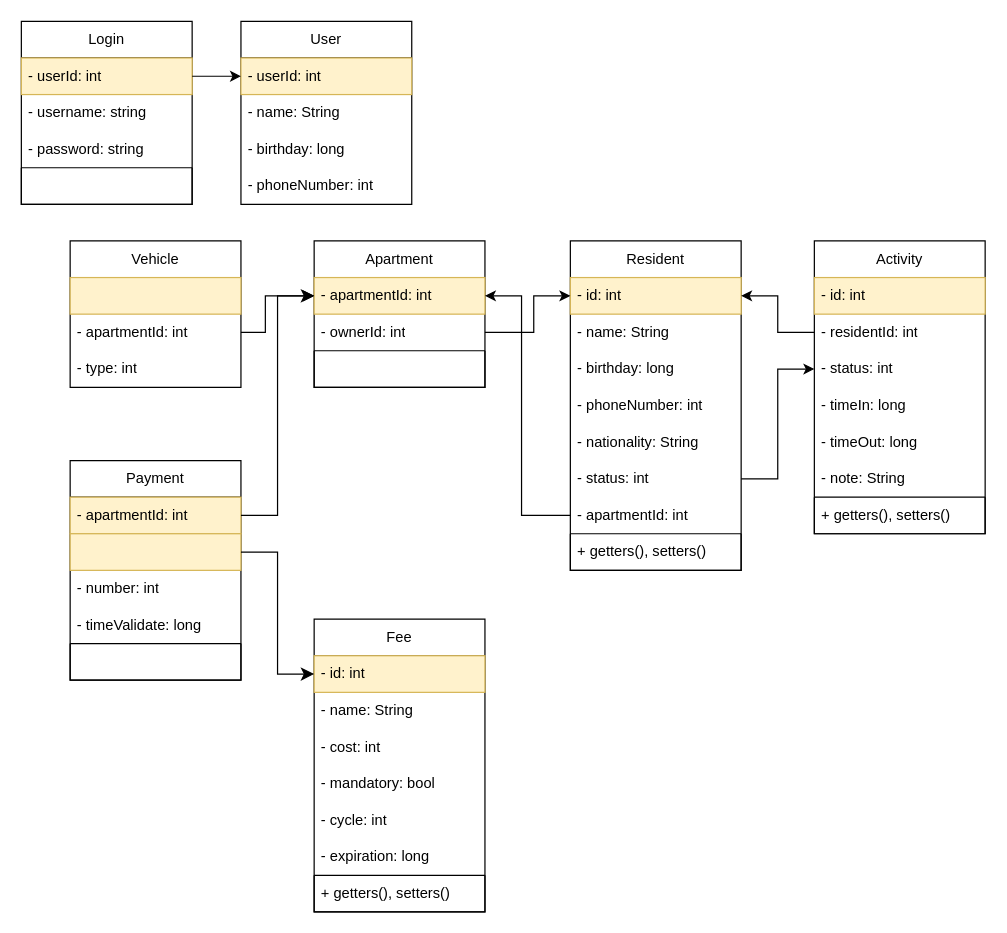
This 1007x933 diagram has some shape labels left out. Each missing label, with the centre of its shape:
"+ getArea(): double" belongs at [399,368].
"+ getTotal(): int" belongs at [155,661].
"- feeId: int" belongs at [155,551].
"- license plates: String" belongs at [155,295].
"getters(), setters()" belongs at [106,185].
